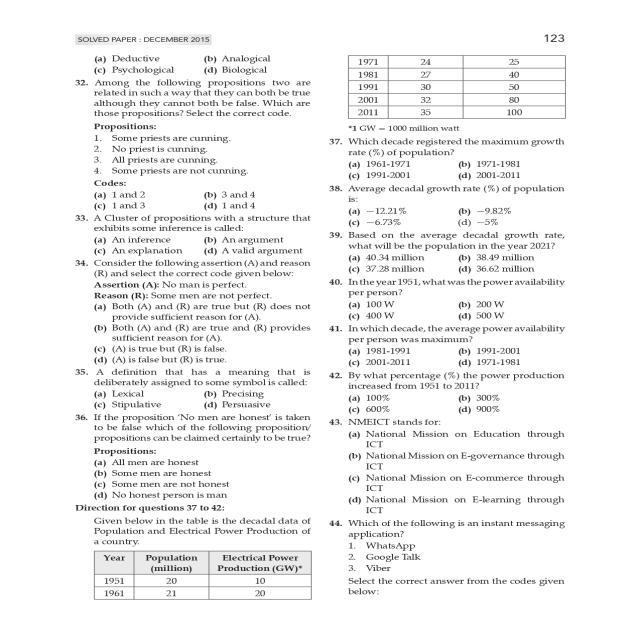Answer_Block: (328, 430, 578, 515), (57, 304, 326, 368), (57, 458, 326, 502), (57, 49, 326, 79), (328, 344, 578, 372), (57, 234, 326, 258), (328, 299, 578, 324), (57, 190, 326, 213), (57, 388, 326, 411), (328, 206, 578, 229), (328, 394, 578, 416), (328, 254, 578, 274), (328, 162, 578, 182)
Instruction: (57, 504, 326, 606), (328, 54, 578, 132)
Question_Answer_Block: (57, 78, 326, 212), (57, 258, 326, 368), (328, 419, 578, 515), (57, 414, 326, 502), (328, 520, 578, 608), (328, 276, 578, 324), (57, 215, 326, 258), (328, 182, 578, 228), (328, 325, 578, 371), (328, 135, 578, 181), (57, 369, 326, 410), (328, 231, 578, 274), (328, 374, 578, 416), (57, 49, 326, 79)
Question_Block: (57, 79, 326, 189), (328, 520, 578, 608), (57, 258, 326, 302), (57, 415, 326, 459), (328, 135, 578, 160), (328, 325, 578, 348), (328, 276, 578, 299), (328, 374, 578, 396), (328, 182, 578, 204), (328, 232, 578, 252), (57, 215, 326, 233), (57, 369, 326, 387), (328, 419, 578, 429)
Question_Paper_Area: (57, 49, 326, 612), (328, 49, 582, 612)
